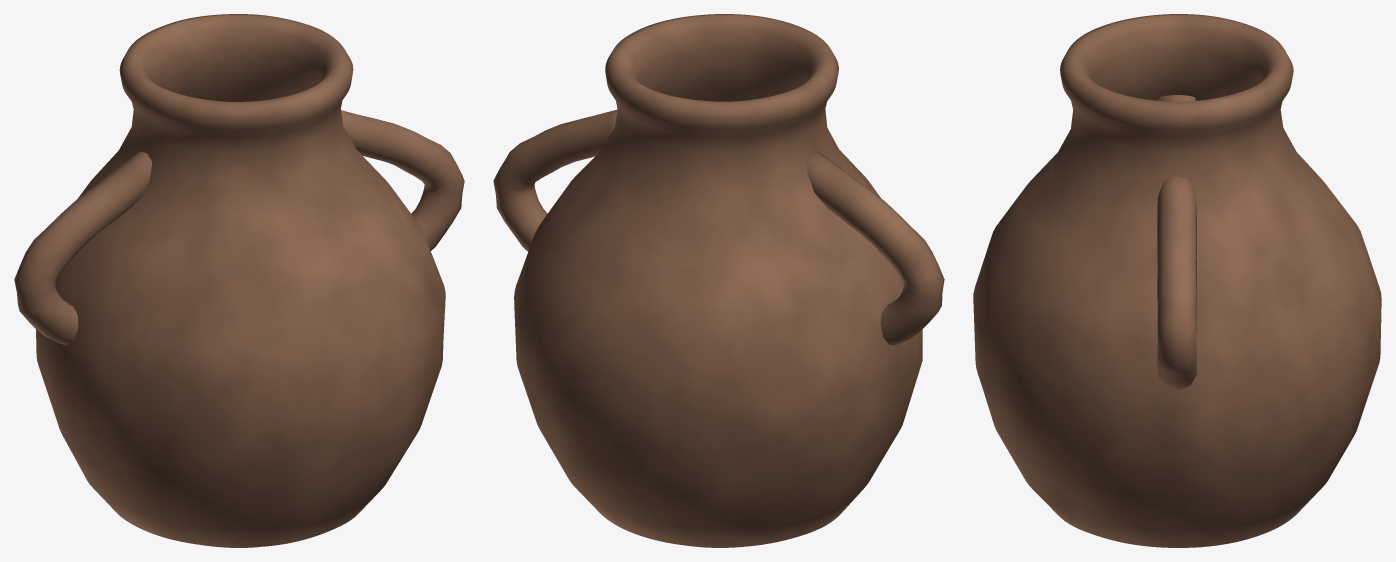
The model's file is 20_Terracotta_Jar.glb.
The picture shows the model from 3 angles, left to right: view 1: azimuth 30°, elevation 25°; view 2: azimuth 150°, elevation 25°; view 3: azimuth 270°, elevation 25°; orthographic projection.
Parts seen in each view (by area): view 1: 20_Terracotta_Jar_Body; view 2: 20_Terracotta_Jar_Body; view 3: 20_Terracotta_Jar_Body.
Boxes of the visible parts, x1,y1,x2,y2 form: 20_Terracotta_Jar_Body: (14,14,464,547); 20_Terracotta_Jar_Body: (493,14,944,547); 20_Terracotta_Jar_Body: (973,14,1381,547).
Bounding box in the file's own units: 0.7392 × 0.7173 × 0.5875.
Materials: 1 (1 with a texture image).
